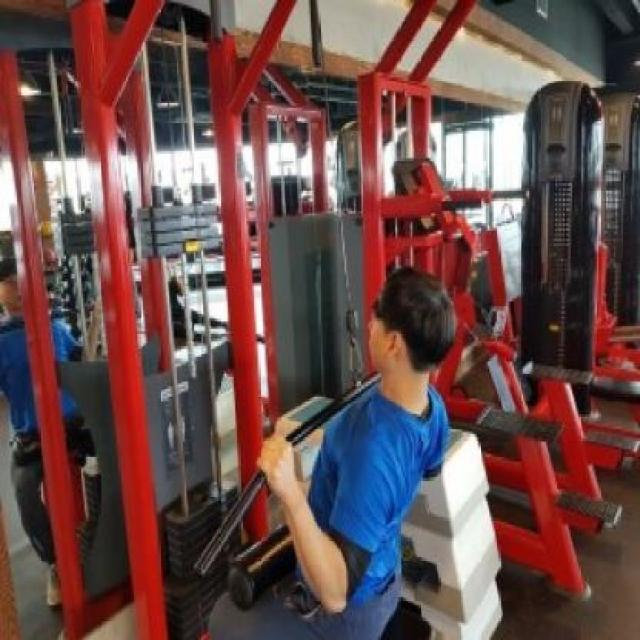Lat Pull Down: (8, 3, 478, 640)
